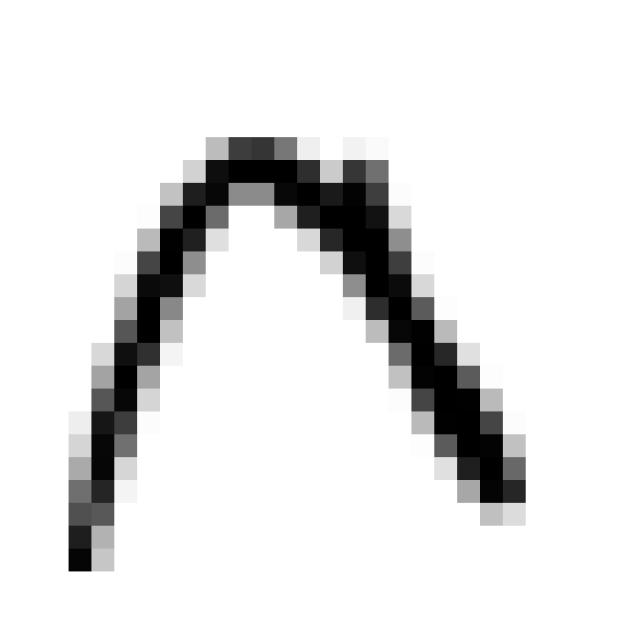8 -eight-: (48, 105, 550, 589)
